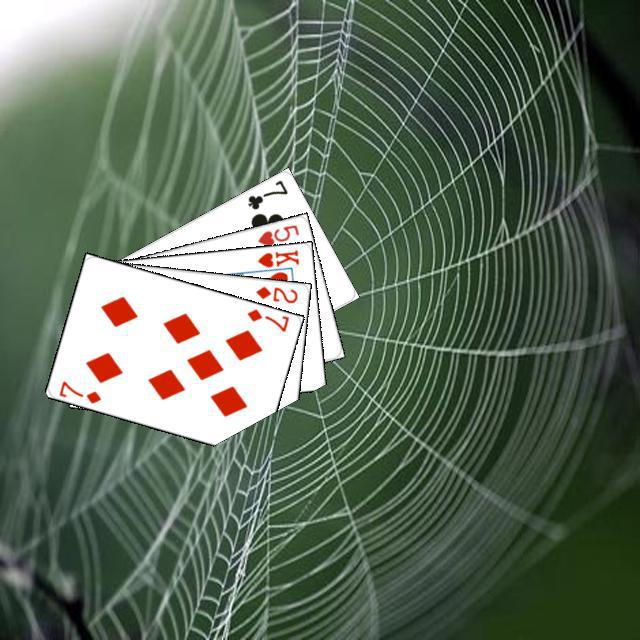2d: (251, 281, 299, 305)
5h: (253, 220, 301, 247)
7c: (243, 175, 289, 211)
7d: (54, 376, 103, 406), (242, 304, 290, 333)
Kh: (249, 245, 301, 274)
